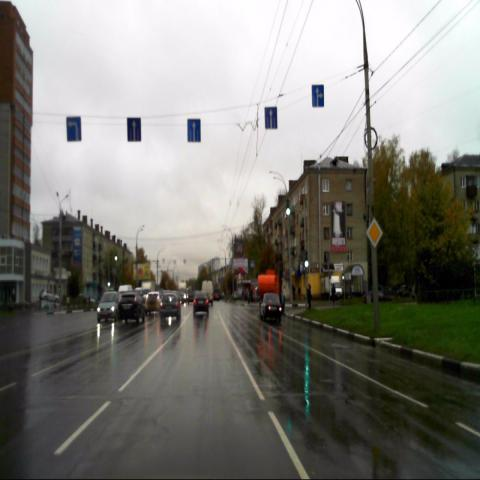5_15_2: (187, 118, 201, 143), (312, 84, 324, 107)
